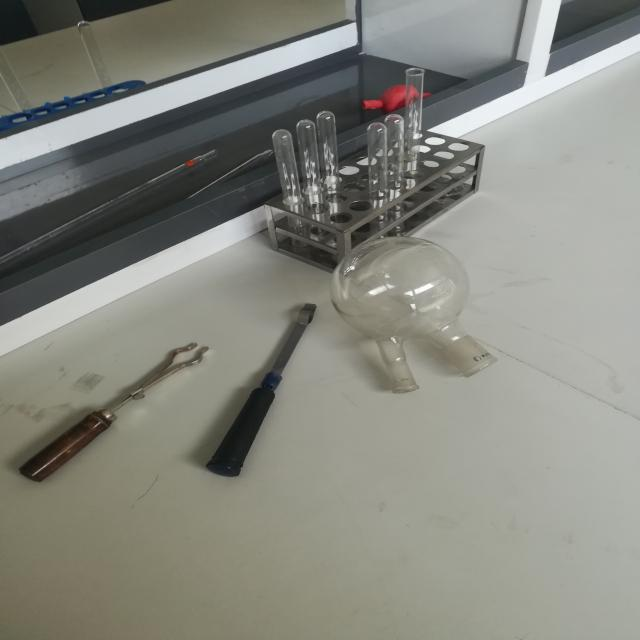Round_Bottom_Flask_Borosilicate_Glass_2_Neck: (323, 223, 533, 399)
TestTube_Holder: (15, 266, 215, 544), (214, 226, 316, 507)
